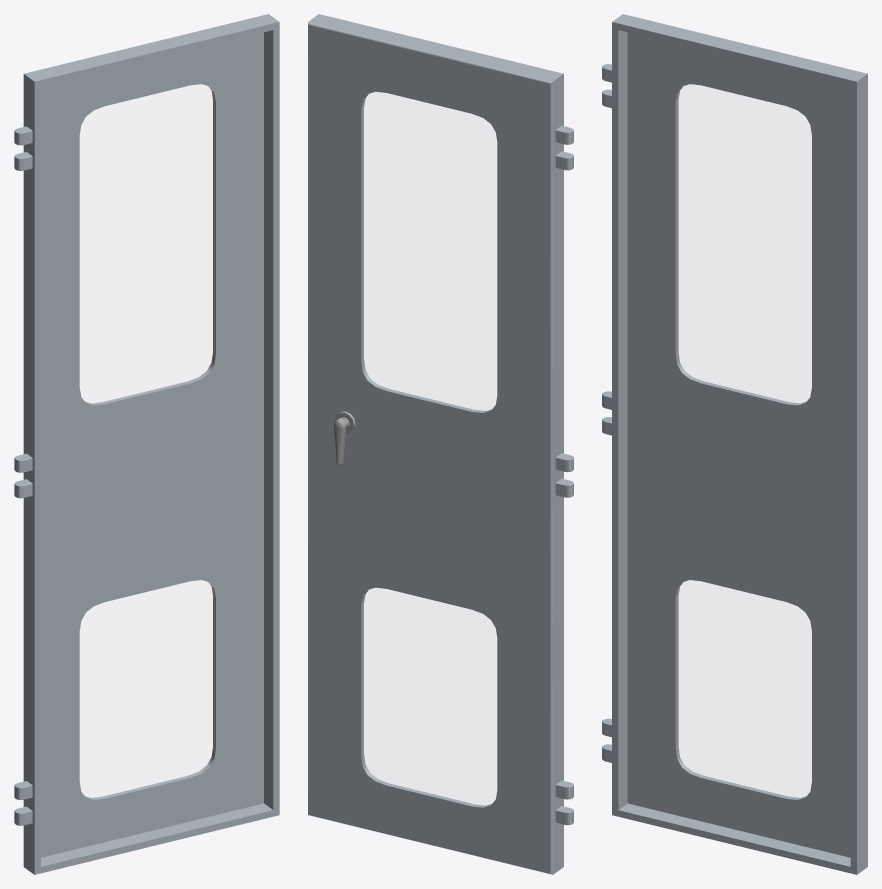
File: LBS_BACK_DOOR2.fbx
The picture shows the model from 3 angles, left to right: view 1: azimuth 30°, elevation 25°; view 2: azimuth 150°, elevation 25°; view 3: azimuth 330°, elevation 25°; orthographic projection.
Visible parts, largest first — view 1: LBS_BACK_DOOR2; view 2: LBS_BACK_DOOR2; view 3: LBS_BACK_DOOR2.
Part boxes in pixels (x1,y1,x2,y2): LBS_BACK_DOOR2: (14, 14, 279, 874); LBS_BACK_DOOR2: (308, 14, 573, 874); LBS_BACK_DOOR2: (602, 14, 867, 874).
Size of the model in its own units: 0.6334 by 1.85 by 0.0875.
Materials: 2 (1 with a texture image).
